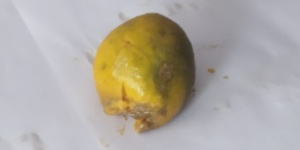BAD: (96, 11, 195, 135)
